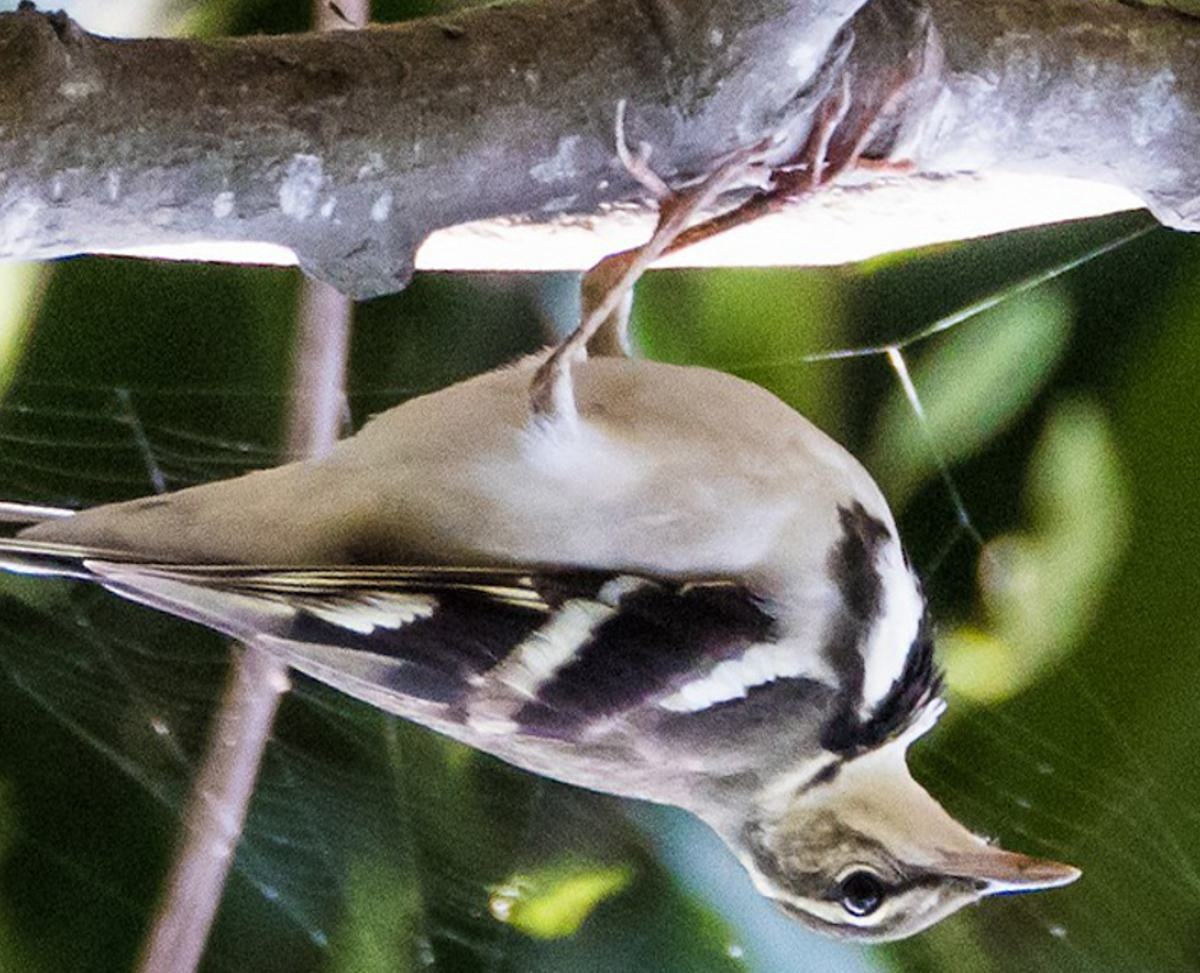wagtail: (1, 208, 1092, 944)
